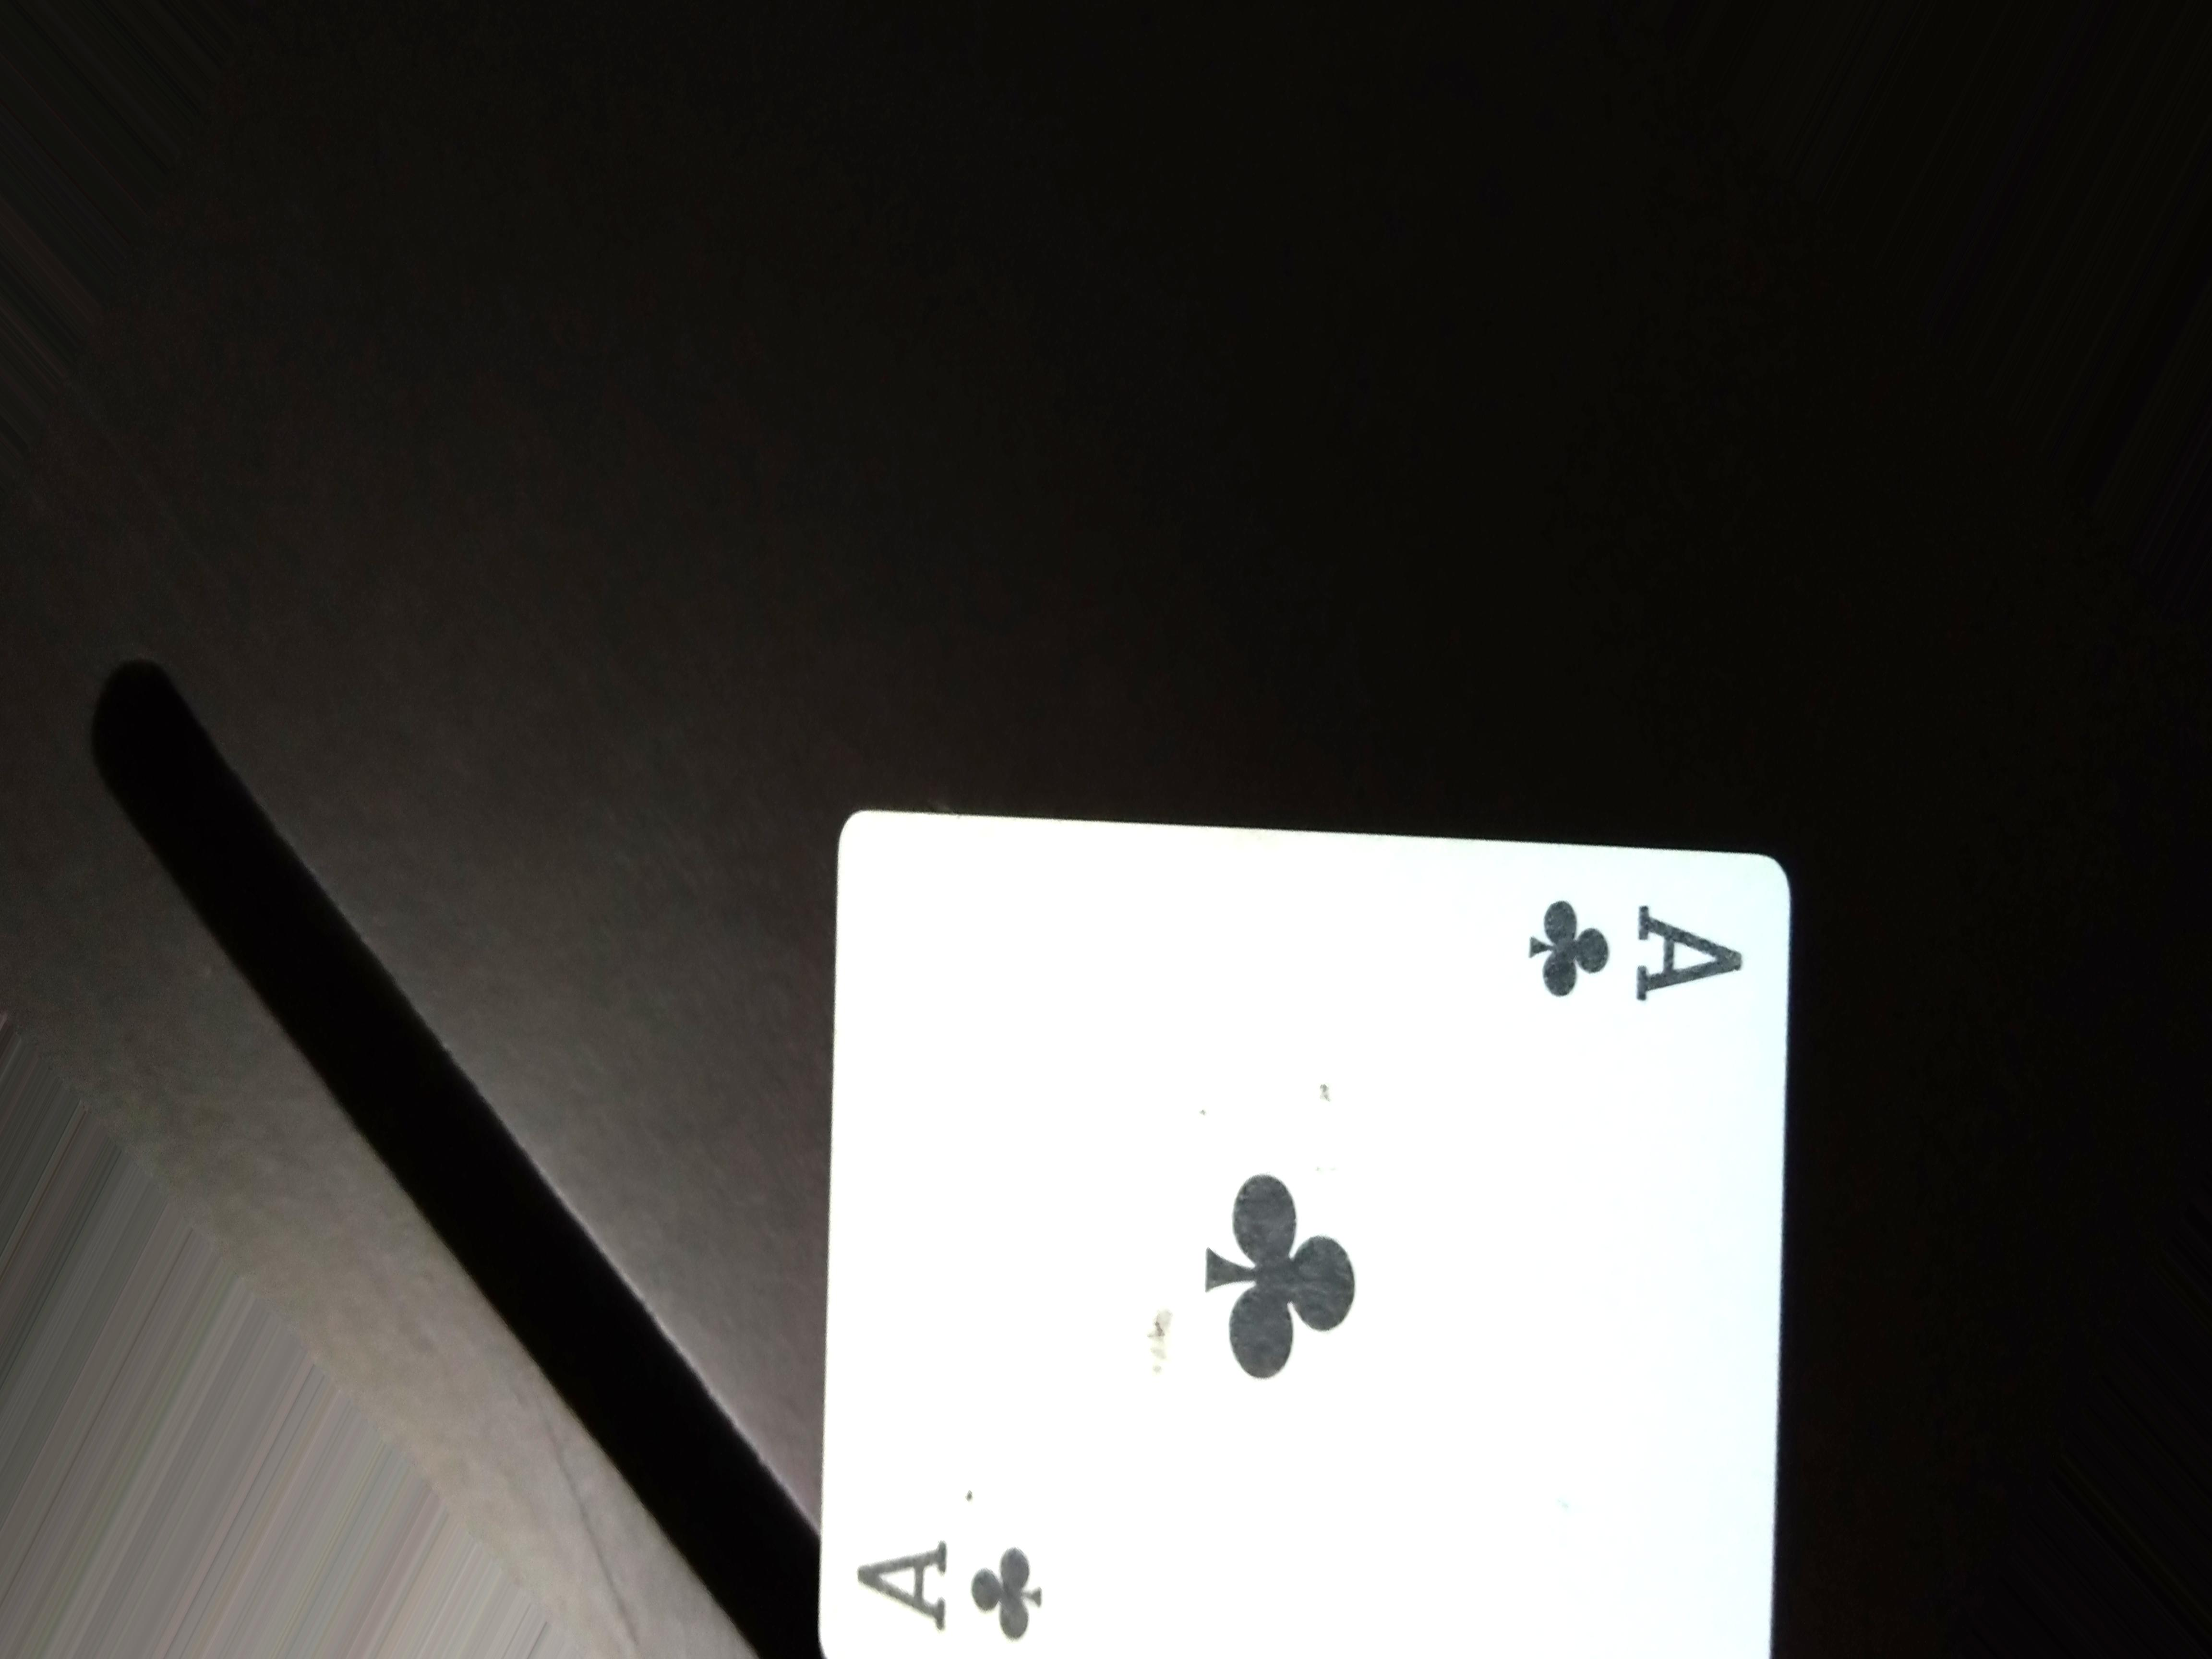AC: (1479, 875, 1773, 1049)
